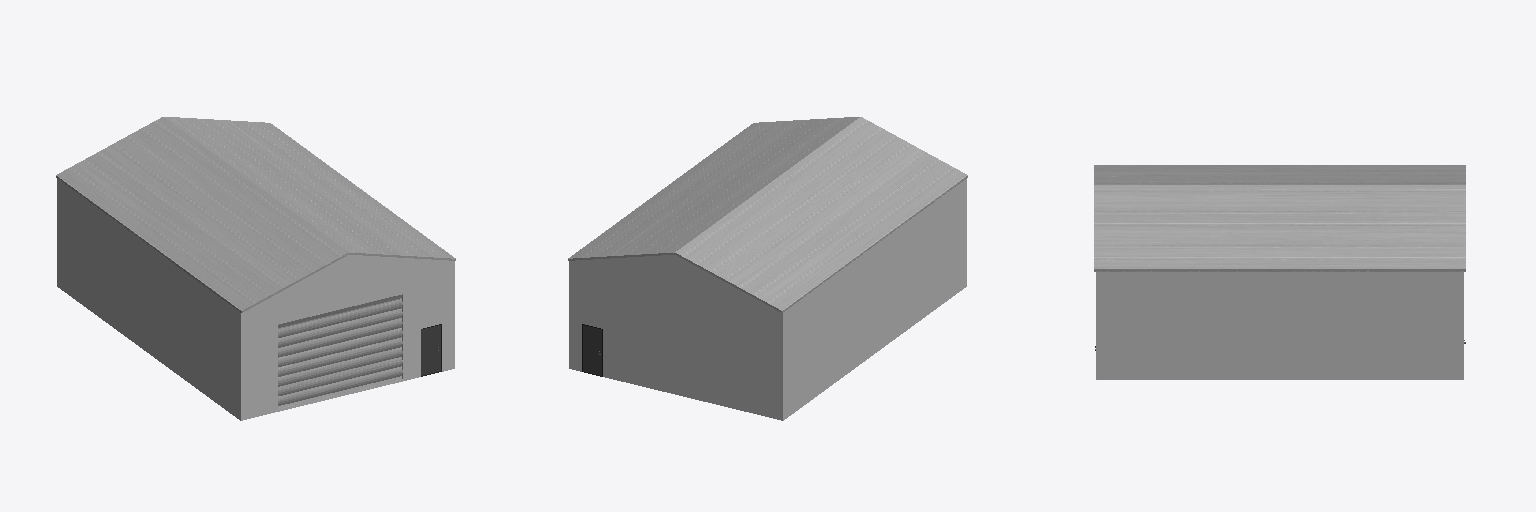
The picture shows the model from 3 angles: view 1: azimuth 30°, elevation 25°; view 2: azimuth 150°, elevation 25°; view 3: azimuth 270°, elevation 25°; orthographic projection.
Parts seen in each view (by area): view 1: Roof, Wall_L, Wall_F, Door_Bit, Front; view 2: Roof, Wall_B, Wall_L, Back; view 3: Roof, Wall_R.
Boxes of the visible parts, x1=… form: Roof: x1=56, y1=117, x2=455, y2=312; Wall_L: x1=57, y1=178, x2=240, y2=420; Wall_F: x1=241, y1=255, x2=454, y2=420; Door_Bit: x1=278, y1=294, x2=402, y2=411; Front: x1=421, y1=324, x2=441, y2=376; Roof: x1=568, y1=117, x2=967, y2=312; Wall_B: x1=569, y1=255, x2=782, y2=420; Wall_L: x1=783, y1=179, x2=966, y2=420; Back: x1=582, y1=324, x2=602, y2=376; Roof: x1=1094, y1=165, x2=1465, y2=271; Wall_R: x1=1096, y1=271, x2=1463, y2=379.
Size of the model in its own units: 10.3 by 6.55 by 15.43.
Materials: 17 (2 with a texture image).